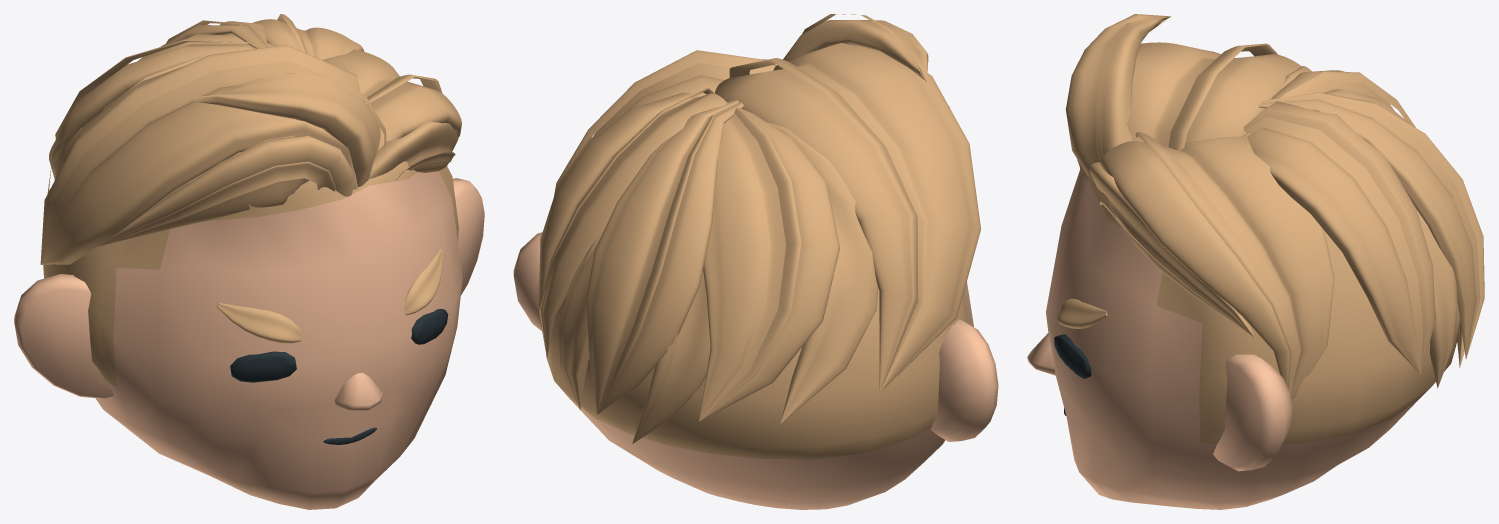
File: knight.fbx
3 views of the same model, side by side, from view 1: azimuth 30°, elevation 25°; view 2: azimuth 150°, elevation 25°; view 3: azimuth 270°, elevation 25° (orthographic). The views are drawn at different scales.
Visible parts, largest first — view 1: character_knightHead_Cube.015, NurbsPath.001, NurbsPath.002, character_knightHead_Cube.003, NurbsPath.009, NurbsPath.003, NurbsPath.005, NurbsPath.008, NurbsPath.004, character_knightHead_Cube.002, NurbsPath.006, NurbsPath.007 (+1 smaller); view 2: NurbsPath.001, character_knightHead_Cube.015, NurbsPath.005, NurbsPath.007, NurbsPath.006, NurbsPath.012, character_knightHead_Cube.003, NurbsPath.010, NurbsPath.003, NurbsPath.009, NurbsPath.011; view 3: character_knightHead_Cube.015, NurbsPath.003, NurbsPath.006, NurbsPath.001, NurbsPath.007, NurbsPath.009, character_knightHead_Cube.003, NurbsPath.004, NurbsPath.011, NurbsPath.005, NurbsPath.008, character_knightHead_Cube.002.
Part boxes in pixels (left/top/right/bottom): character_knightHead_Cube.015: left=43, top=152, right=462, bottom=509; NurbsPath.001: left=40, top=45, right=360, bottom=264; NurbsPath.002: left=98, top=135, right=354, bottom=246; character_knightHead_Cube.003: left=14, top=178, right=484, bottom=398; NurbsPath.009: left=180, top=73, right=386, bottom=186; NurbsPath.003: left=322, top=49, right=461, bottom=150; NurbsPath.005: left=49, top=34, right=258, bottom=179; NurbsPath.008: left=217, top=249, right=443, bottom=343; NurbsPath.004: left=369, top=121, right=458, bottom=180; character_knightHead_Cube.002: left=230, top=309, right=448, bottom=382; NurbsPath.006: left=252, top=14, right=364, bottom=59; NurbsPath.007: left=160, top=20, right=273, bottom=48; NurbsPath.001: left=715, top=43, right=980, bottom=392; character_knightHead_Cube.015: left=546, top=271, right=973, bottom=509; NurbsPath.005: left=699, top=101, right=840, bottom=421; NurbsPath.007: left=586, top=99, right=743, bottom=414; NurbsPath.006: left=538, top=88, right=727, bottom=358; NurbsPath.012: left=767, top=122, right=878, bottom=424; character_knightHead_Cube.003: left=513, top=232, right=998, bottom=441; NurbsPath.010: left=632, top=273, right=710, bottom=443; NurbsPath.003: left=554, top=50, right=776, bottom=195; NurbsPath.009: left=783, top=14, right=928, bottom=81; NurbsPath.011: left=558, top=240, right=595, bottom=410; character_knightHead_Cube.015: left=1027, top=168, right=1460, bottom=509; NurbsPath.003: left=1100, top=132, right=1334, bottom=399; NurbsPath.006: left=1243, top=101, right=1435, bottom=374; NurbsPath.001: left=1085, top=42, right=1301, bottom=174; NurbsPath.007: left=1258, top=92, right=1484, bottom=359; NurbsPath.009: left=1065, top=14, right=1170, bottom=177; character_knightHead_Cube.003: left=1213, top=354, right=1292, bottom=471; NurbsPath.004: left=1089, top=162, right=1254, bottom=337; NurbsPath.011: left=1416, top=210, right=1457, bottom=388; NurbsPath.005: left=1241, top=70, right=1415, bottom=136; NurbsPath.008: left=1057, top=298, right=1107, bottom=328; character_knightHead_Cube.002: left=1054, top=334, right=1091, bottom=378.
Size of the model in its own units: 130 by 116 by 110.
